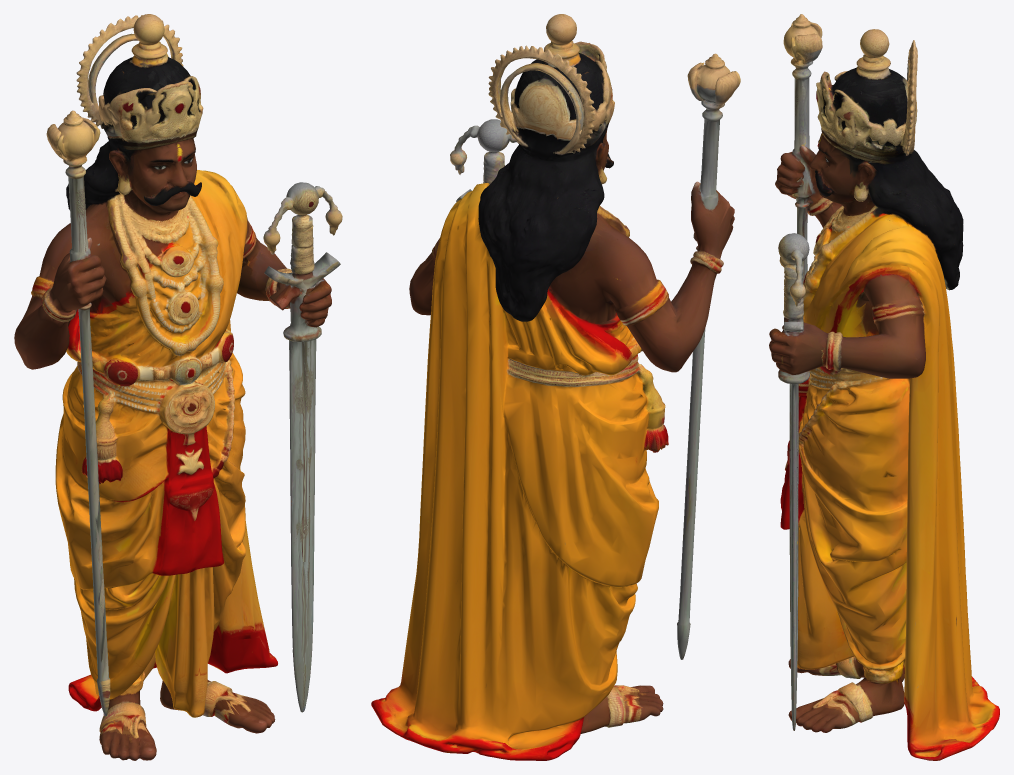
The model's file is rajarajacholan_varient.glb.
3 views of the same model, side by side, from view 1: azimuth 30°, elevation 25°; view 2: azimuth 150°, elevation 25°; view 3: azimuth 270°, elevation 25° (orthographic). The views are drawn at different scales.
Visible parts, largest first — view 1: Mesh_0; view 2: Mesh_0; view 3: Mesh_0.
Boxes of the visible parts, bbox=[...] form: Mesh_0: bbox=[14, 14, 342, 760]; Mesh_0: bbox=[371, 14, 740, 760]; Mesh_0: bbox=[769, 14, 999, 760].
Size of the model in its own units: 0.8236 by 1.9 by 0.6013.
1 material, 1 textured.
